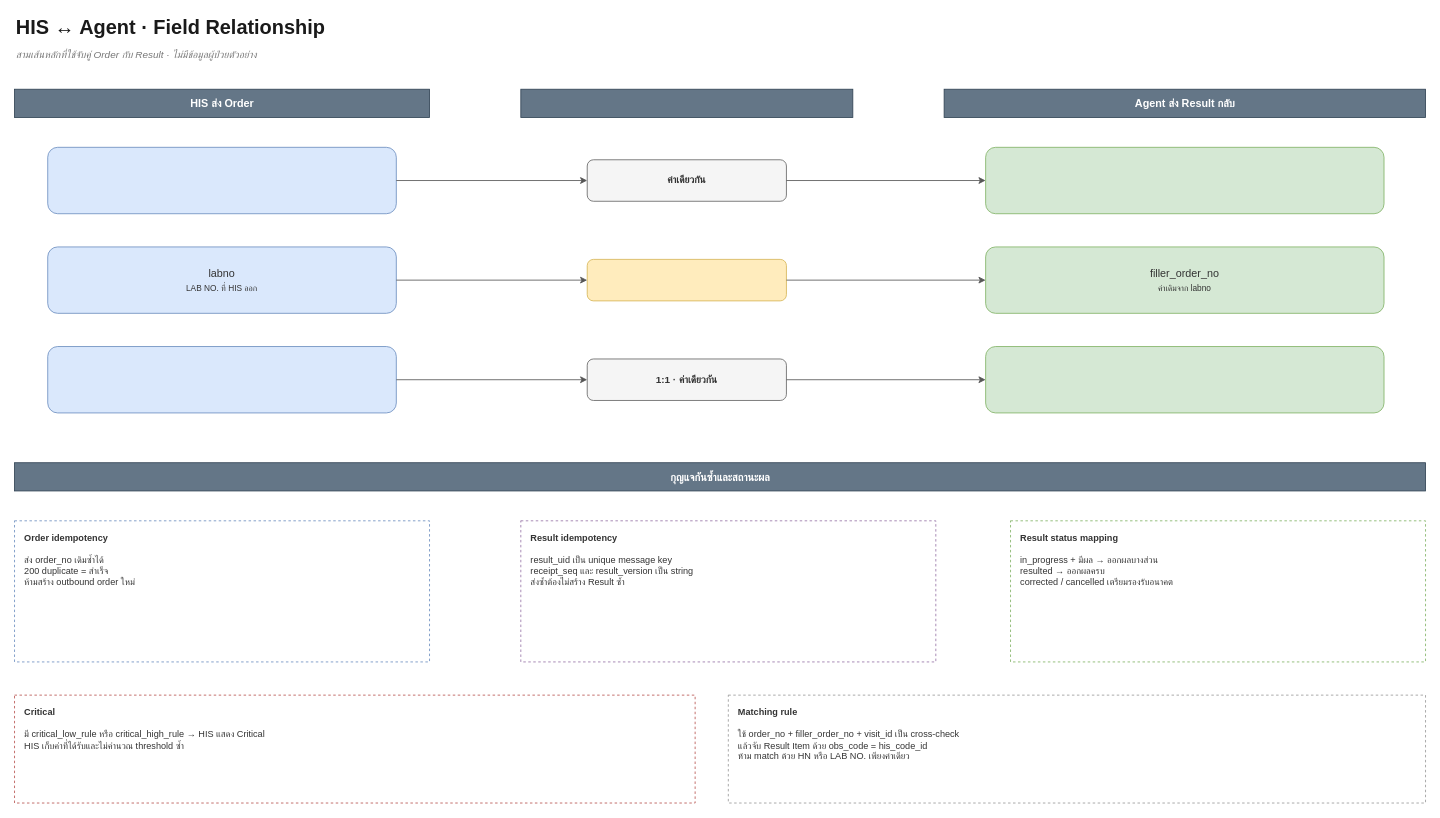
This 1440x818 diagram has some shape labels left out. Here are the shapes that lost their labels. From the top down, the centre of each, then its label:
At (x=686, y=102): "ความสัมพันธ์".
At (x=221, y=180): "order_no HIS order id · idempotency ขาส่ง".
At (x=1184, y=180): "order_no ตรวจกลับกับ Order เดิม".
At (x=686, y=280): "เปลี่ยนชื่อ field".
At (x=221, y=379): "items[].test_code ค่า = his_code_id".
At (x=1184, y=379): "items[].obs_code ค่า = his_code_id".
